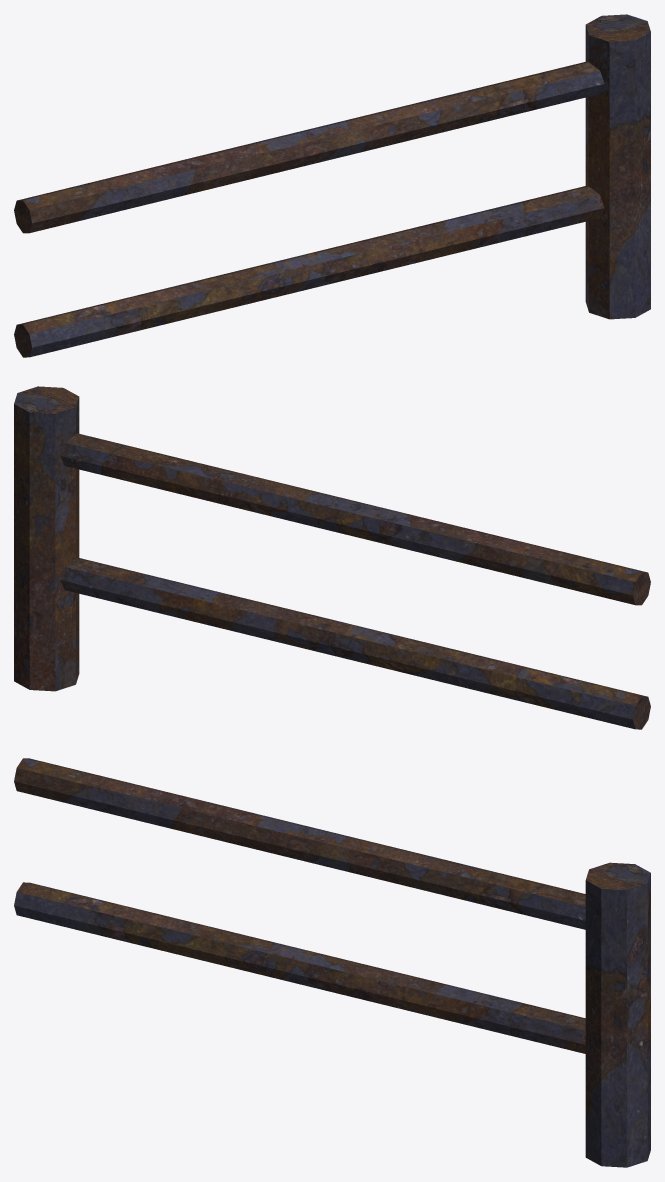
Rendered from Barrier.fbx.
3 views of the same model, one above another, from view 1: azimuth 30°, elevation 25°; view 2: azimuth 150°, elevation 25°; view 3: azimuth 330°, elevation 25° (orthographic).
Parts seen in each view (by area): view 1: Barrier; view 2: Barrier; view 3: Barrier.
Boxes of the visible parts, bbox=[...] form: Barrier: bbox=[14, 14, 650, 357]; Barrier: bbox=[14, 386, 650, 729]; Barrier: bbox=[14, 758, 650, 1167].
Bounding box in the file's own units: 210 × 89.09 × 19.67.
Materials: 1 (1 with a texture image).
